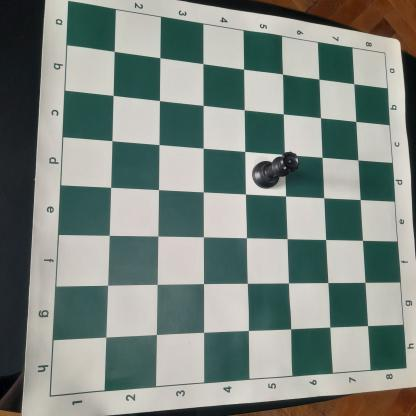black-queen: (250, 150, 300, 189)
